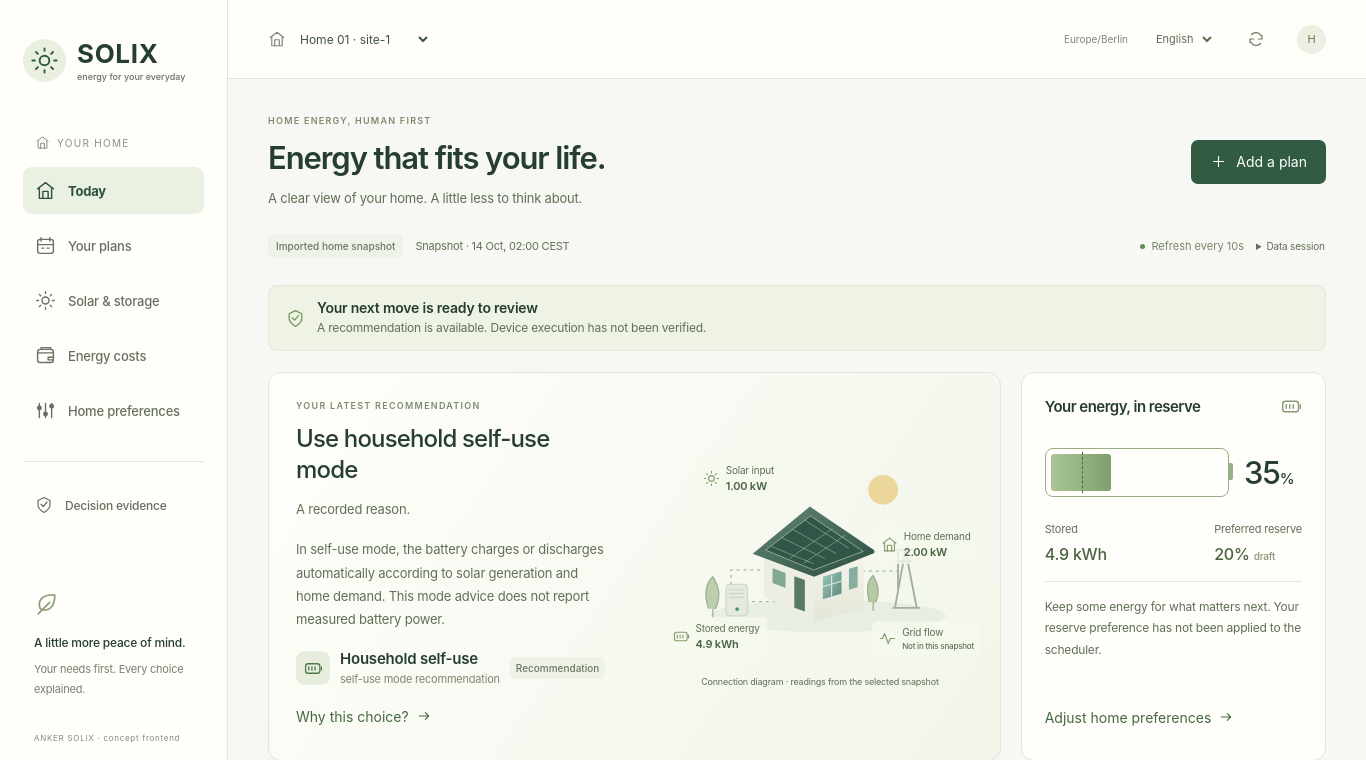
Household-first experience › describes real hold/self-consumption as an automatic mode rather than zero measured battery power
The width and height of the screenshot is (1366, 760).
Expected: the text "A recorded reason." is shown, [296,501,410,517]
Expected: the button "Add a plan" is enabled, [1191,140,1326,184]
Select "中文" in the dropdown named "Language / 语言" next to "Europe/Berlin" at x=1181, y=39, box [1147,23,1215,55]
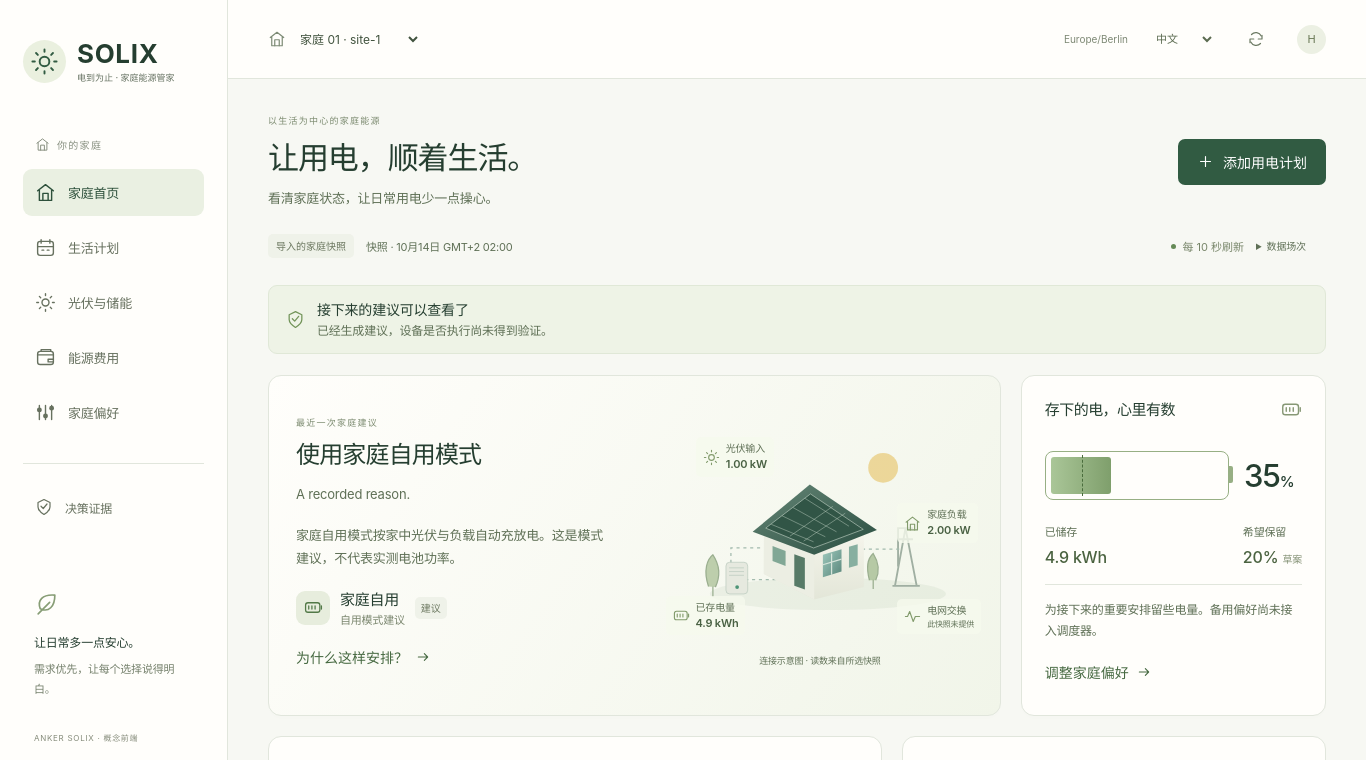
Result: the heading "使用家庭自用模式" is shown at [296,440,481,469]
Result: the text "自用模式建议" is shown at [340,612,405,628]
Result: the text "家庭自用模式按家中光伏与负载自动充放电。这是模式建议，不代表实测电池功率。" is shown at [296,524,606,571]
